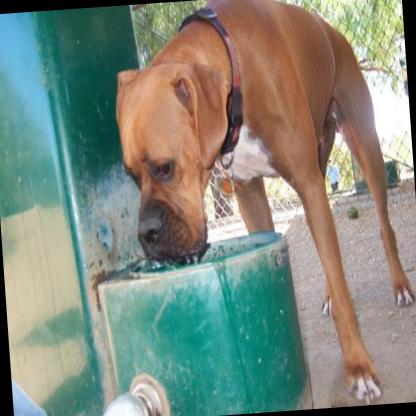boxer: (105, 0, 416, 416)
